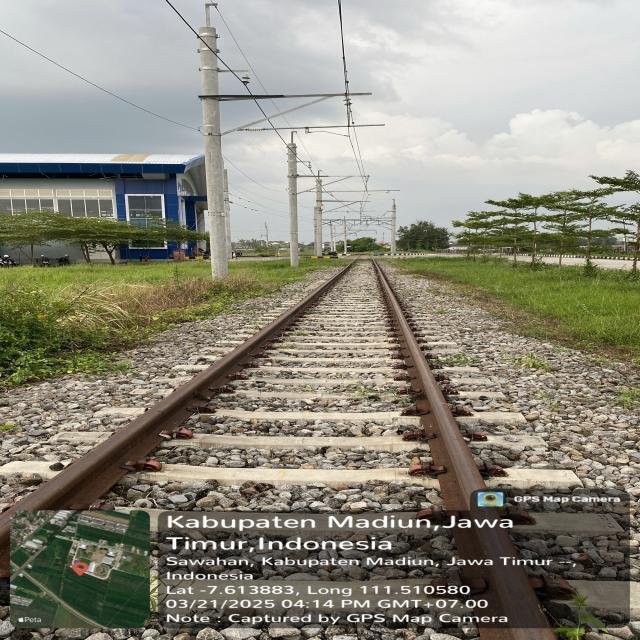rail-detection: (0, 265, 350, 567), (374, 263, 555, 640)
